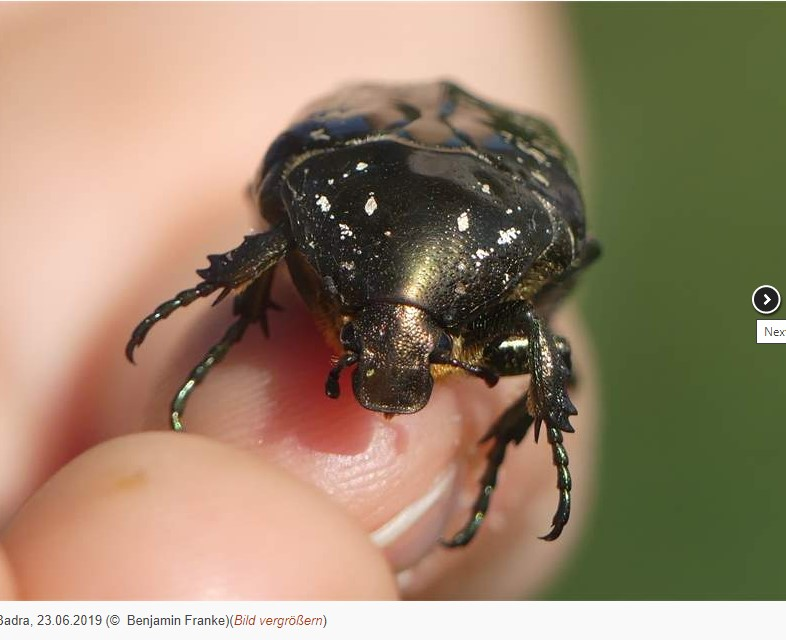Protaetia_lugubris: (119, 75, 607, 554)
